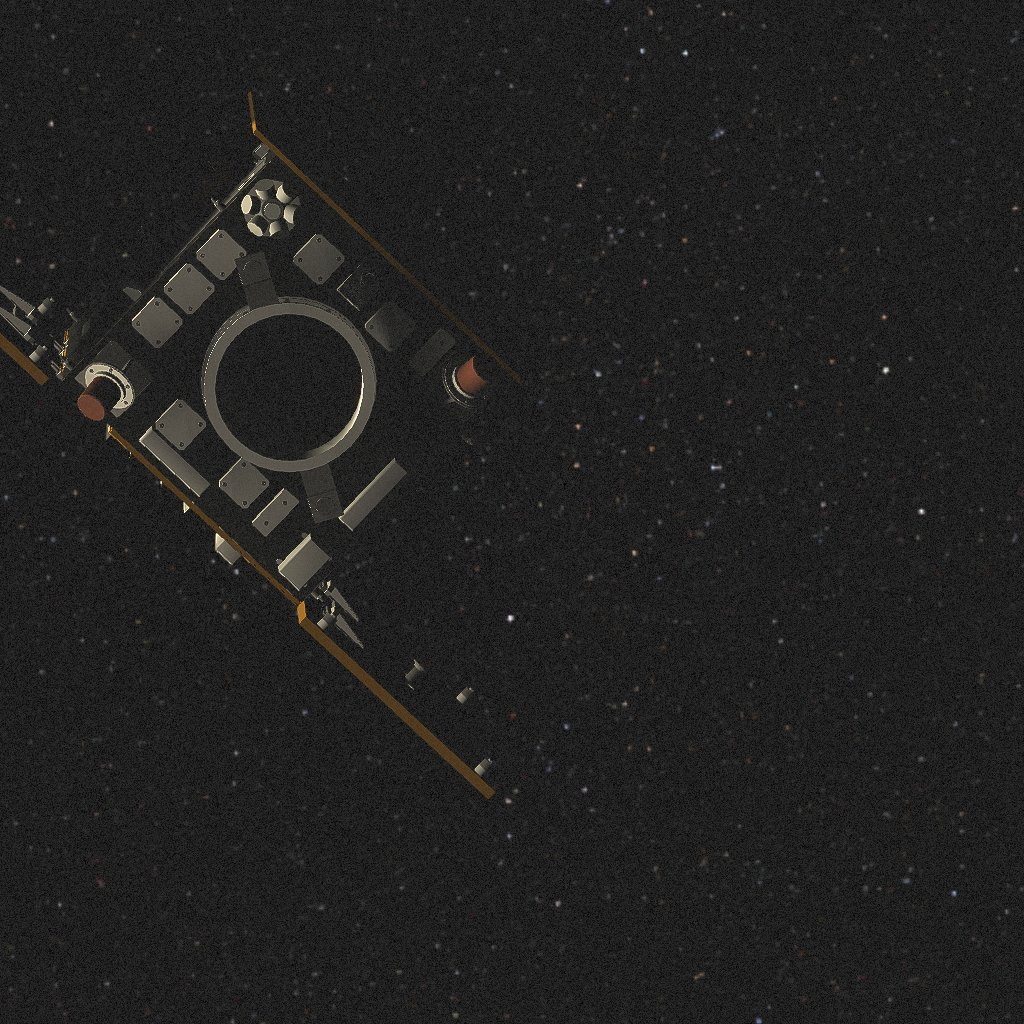proba_2: (0, 91, 524, 799)
